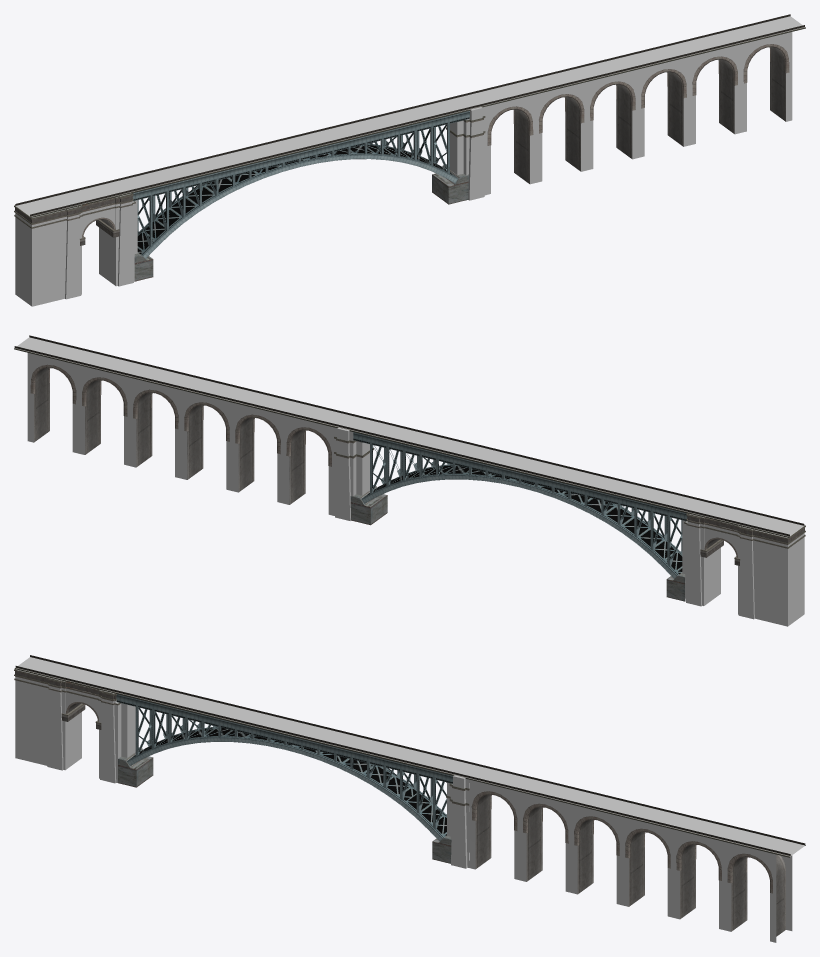
The model's file is High Bridge.obj.
The picture shows the model from 3 angles, top to bottom: view 1: azimuth 30°, elevation 25°; view 2: azimuth 150°, elevation 25°; view 3: azimuth 330°, elevation 25°; orthographic projection.
Visible parts, largest first — view 1: Cylinder.002_Cylinder.011, Cylinder.007_Cylinder.022, Cylinder.005_Cylinder.020, Cylinder.004_Cylinder.014, Cylinder.001_Cylinder.008, Cylinder.006_Cylinder.021, Cylinder.003_Cylinder.012, Cylinder.008_Cylinder.023; view 2: Cylinder.002_Cylinder.011, Cylinder.007_Cylinder.022, Cylinder.005_Cylinder.020, Cylinder.004_Cylinder.014, Cylinder.001_Cylinder.008, Cylinder.006_Cylinder.021, Cylinder.003_Cylinder.012, Cylinder.008_Cylinder.023; view 3: Cylinder.002_Cylinder.011, Cylinder.007_Cylinder.022, Cylinder.005_Cylinder.020, Cylinder.004_Cylinder.014, Cylinder.001_Cylinder.008, Cylinder.003_Cylinder.012, Cylinder.006_Cylinder.021, Cylinder.008_Cylinder.023.
Part boxes in pixels (bbox=[...]): Cylinder.002_Cylinder.011: bbox=[15, 32, 792, 306]; Cylinder.007_Cylinder.022: bbox=[16, 16, 804, 216]; Cylinder.005_Cylinder.020: bbox=[15, 14, 804, 254]; Cylinder.004_Cylinder.014: bbox=[132, 110, 469, 281]; Cylinder.001_Cylinder.008: bbox=[100, 47, 785, 228]; Cylinder.006_Cylinder.021: bbox=[14, 27, 805, 239]; Cylinder.003_Cylinder.012: bbox=[82, 44, 789, 237]; Cylinder.008_Cylinder.023: bbox=[15, 196, 132, 245]; Cylinder.002_Cylinder.011: bbox=[27, 353, 804, 626]; Cylinder.007_Cylinder.022: bbox=[14, 337, 803, 536]; Cylinder.005_Cylinder.020: bbox=[14, 335, 804, 574]; Cylinder.004_Cylinder.014: bbox=[350, 432, 687, 601]; Cylinder.001_Cylinder.008: bbox=[34, 368, 719, 548]; Cylinder.006_Cylinder.021: bbox=[14, 348, 805, 559]; Cylinder.003_Cylinder.012: bbox=[30, 364, 737, 557]; Cylinder.008_Cylinder.023: bbox=[687, 516, 804, 565]; Cylinder.002_Cylinder.011: bbox=[15, 669, 792, 942]; Cylinder.007_Cylinder.022: bbox=[15, 657, 805, 856]; Cylinder.005_Cylinder.020: bbox=[15, 655, 805, 855]; Cylinder.004_Cylinder.014: bbox=[116, 694, 452, 863]; Cylinder.001_Cylinder.008: bbox=[68, 703, 785, 936]; Cylinder.003_Cylinder.012: bbox=[65, 702, 772, 893]; Cylinder.006_Cylinder.021: bbox=[14, 668, 805, 857]; Cylinder.008_Cylinder.023: bbox=[15, 671, 116, 729].
Size of the model in its own units: 2026 by 229 by 90.11.
